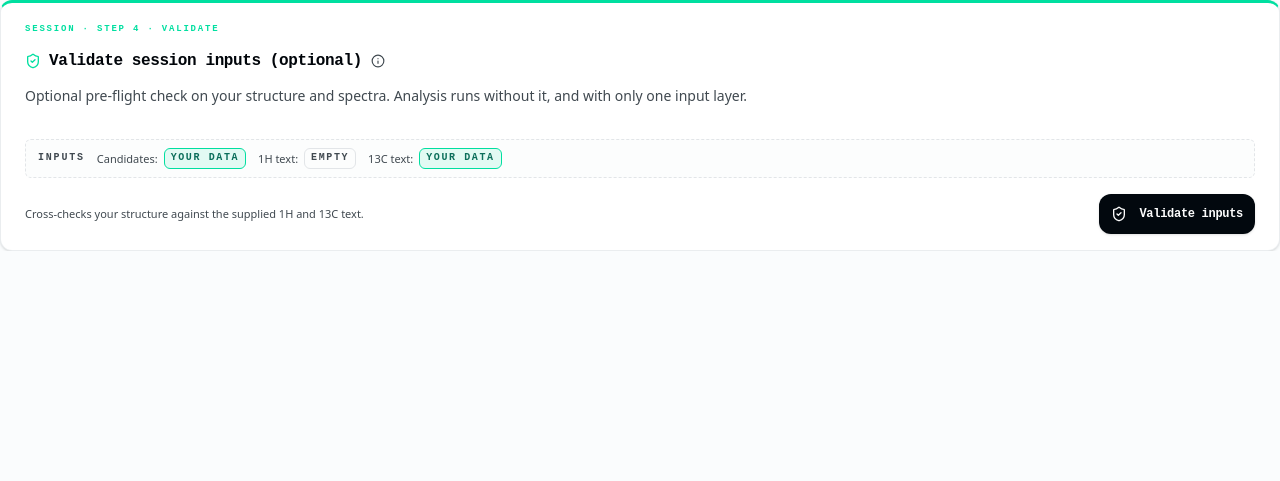
it: SessionValidateCard — 13C NMR layer › renders 'Validation failed' when 13C reports more signals than carbons
Step 1. Click the button with test id "session-validate-button" → [1177, 214], box [1100,194,1255,234]
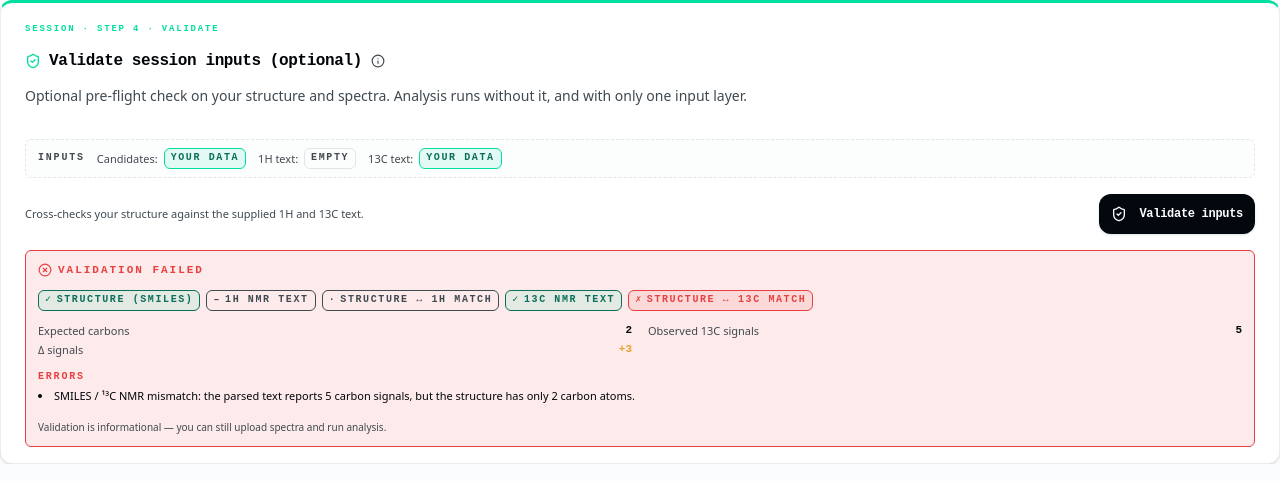
expect the element with test id "session-validate-errors" shows "¹³C NMR mismatch": met, box [54,388,635,403]
